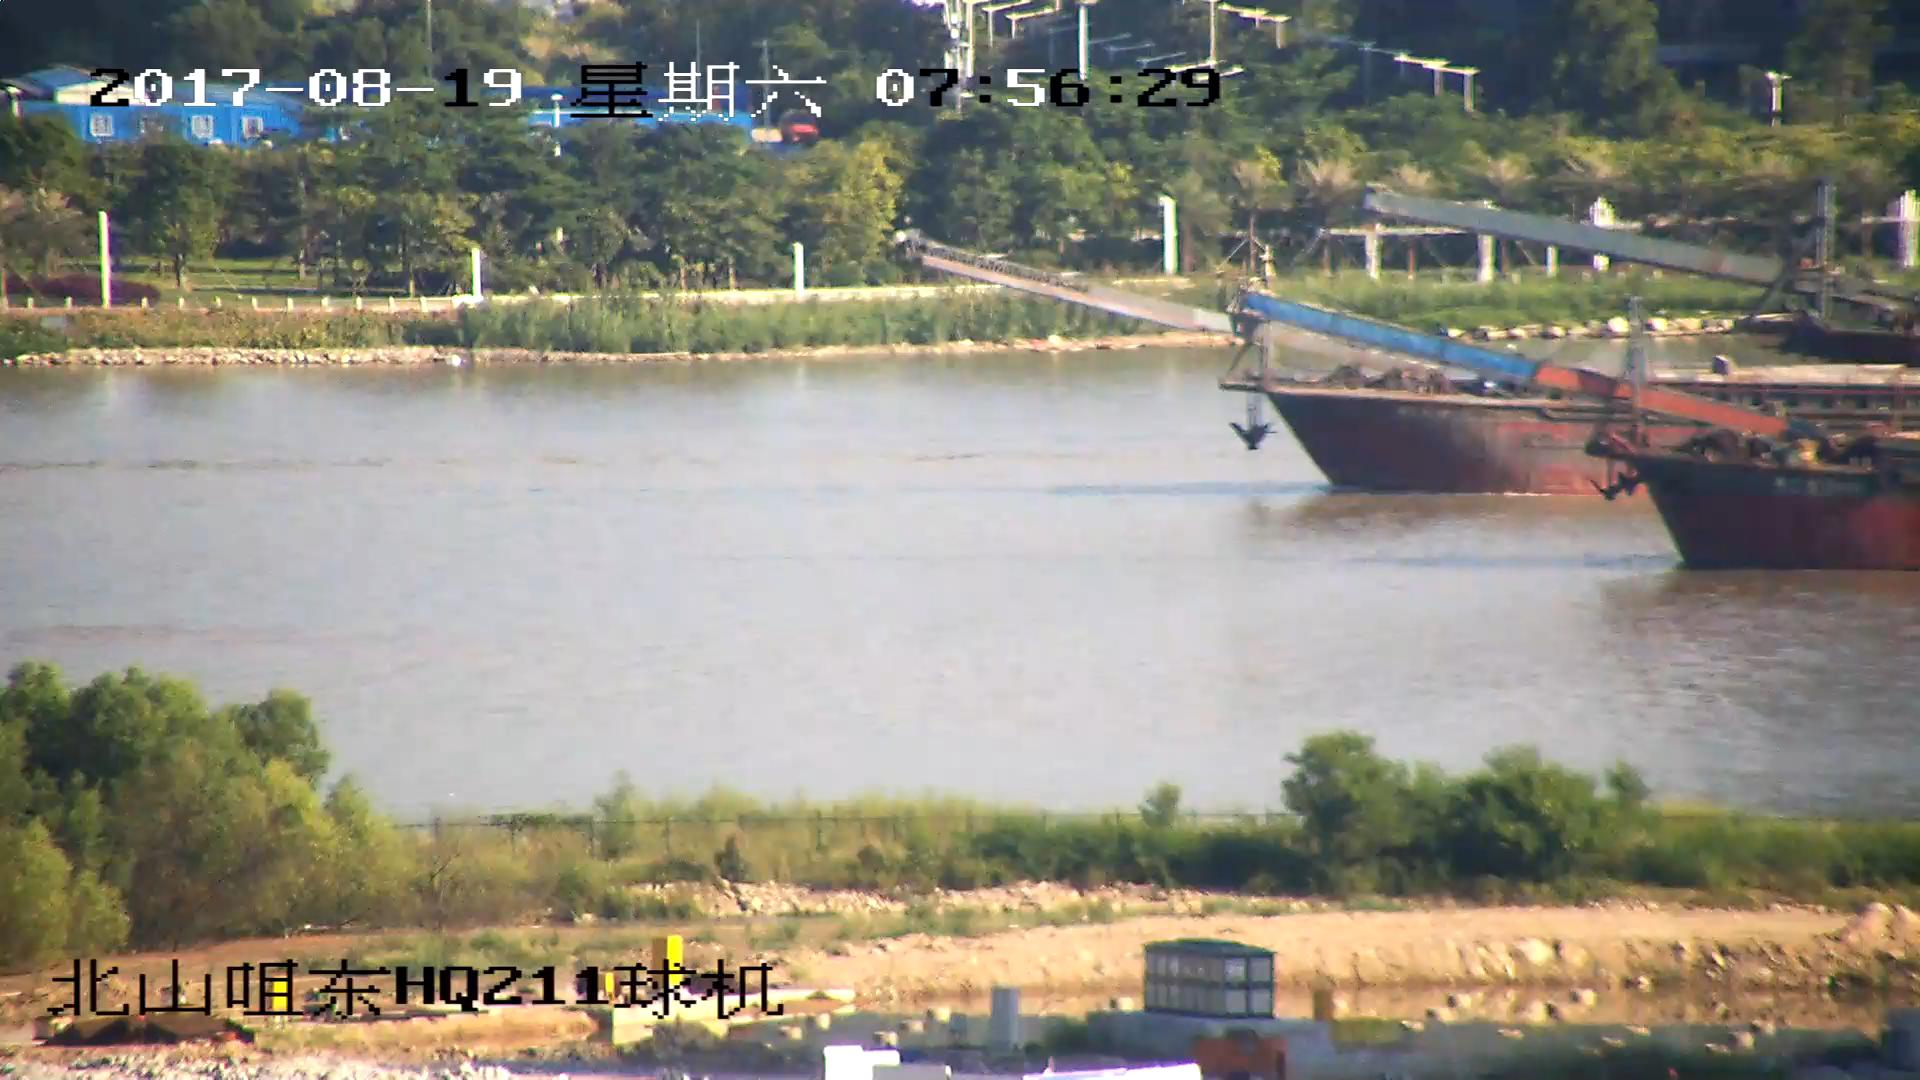bulk cargo carrier: (897, 236, 1587, 511), (1244, 293, 1920, 569), (1370, 185, 1920, 372)
